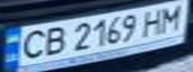1: (90, 16, 112, 47)
2: (69, 19, 93, 52)
6: (106, 14, 127, 45)
9: (118, 11, 145, 43)
B: (36, 24, 69, 57)
C: (12, 27, 51, 61)
H: (136, 6, 172, 37)
M: (154, 2, 190, 34)
